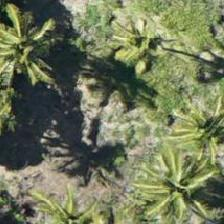coconut_tree: (105, 0, 195, 90), (134, 154, 223, 223), (161, 86, 223, 176), (0, 10, 57, 100)
